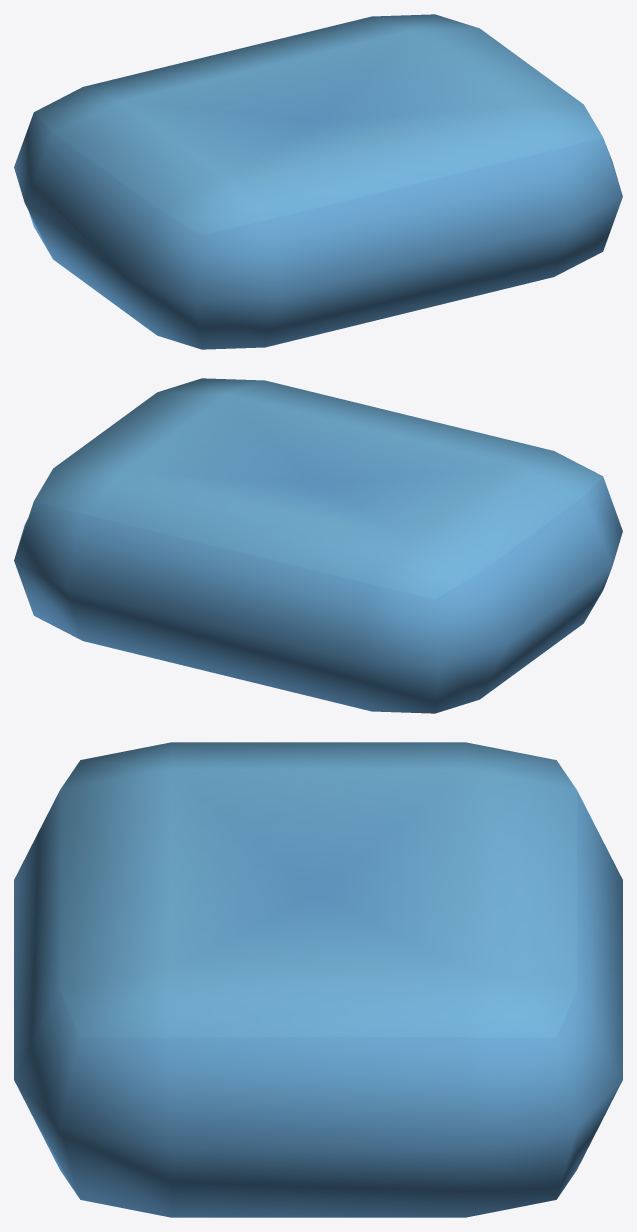
The model's file is pillow_B.obj.
3 views of the same model, one above another, from view 1: azimuth 30°, elevation 25°; view 2: azimuth 150°, elevation 25°; view 3: azimuth 270°, elevation 25° (orthographic). The views are drawn at different scales.
Parts seen in each view (by area): view 1: pillow_B_Cube.019; view 2: pillow_B_Cube.019; view 3: pillow_B_Cube.019.
Boxes of the visible parts, x1=… form: pillow_B_Cube.019: x1=14, y1=14, x2=622, y2=349; pillow_B_Cube.019: x1=14, y1=378, x2=622, y2=713; pillow_B_Cube.019: x1=14, y1=742, x2=622, y2=1217.
Size of the model in its own units: 0.65 by 0.2 by 0.5.
Materials: 1 (1 with a texture image).
